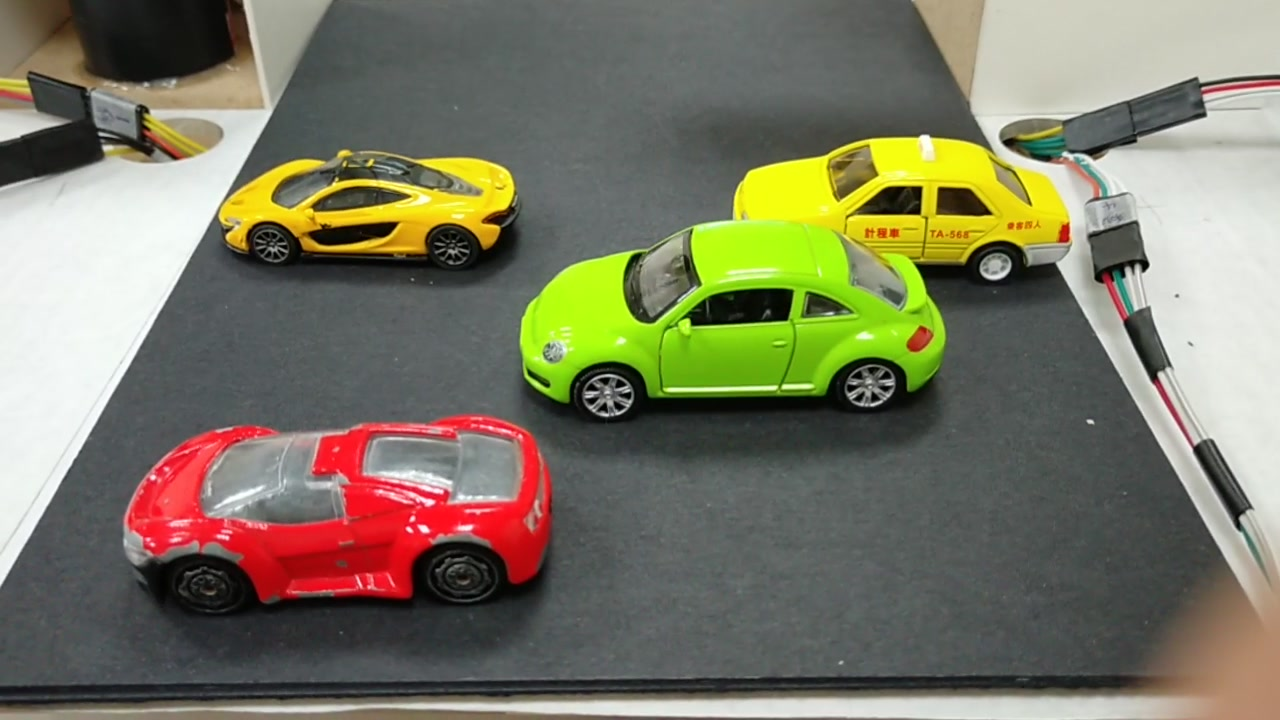car: (504, 235, 950, 412), (123, 425, 551, 604), (724, 138, 1075, 269), (226, 153, 526, 267)
